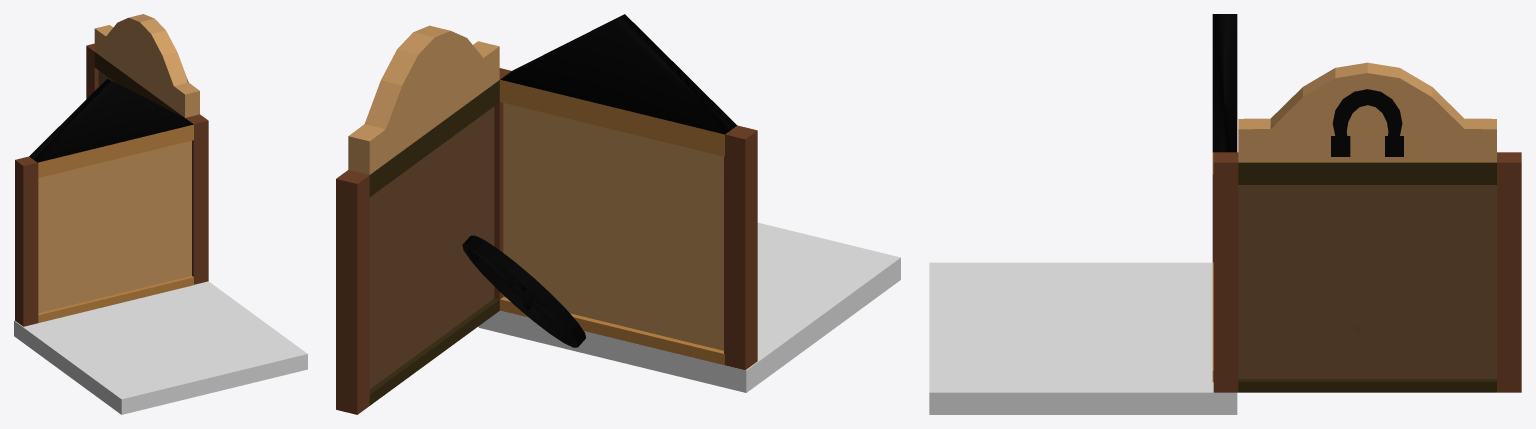
File: Corner_Wall.fbx
3 views of the same model, side by side, from view 1: azimuth 30°, elevation 25°; view 2: azimuth 150°, elevation 25°; view 3: azimuth 270°, elevation 25° (orthographic). The views are drawn at different scales.
Parts seen in each view (by area): view 1: Cube, Cube.006, Cube.012, Cube.015, Cube.001, Cube.008, Cube.002, Cube.004; view 2: Cube.006, Cube.005, Cube, Cube.012, Cube.015, Cube.002, Cube.008, Cube.001, Cube.004, Cube.024; view 3: Cube.005, Cube, Cube.015, Cube.002, Cube.004, Cube.012, Cube.016.
Part boxes in pixels (x1,y1,x2,y2): Cube: [14, 281, 307, 414]; Cube.006: [38, 140, 191, 312]; Cube.012: [29, 79, 193, 162]; Cube.015: [94, 14, 199, 117]; Cube.001: [38, 124, 193, 322]; Cube.008: [15, 156, 38, 326]; Cube.002: [86, 43, 208, 284]; Cube.004: [94, 52, 184, 117]; Cube.006: [503, 103, 723, 350]; Cube.005: [369, 106, 494, 388]; Cube: [478, 222, 900, 392]; Cube.012: [500, 14, 736, 134]; Cube.015: [348, 25, 499, 174]; Cube.002: [336, 68, 511, 414]; Cube.008: [724, 125, 757, 370]; Cube.001: [500, 79, 724, 365]; Cube.004: [369, 80, 499, 405]; Cube.024: [462, 235, 585, 347]; Cube.005: [1238, 185, 1496, 378]; Cube: [929, 262, 1237, 414]; Cube.015: [1238, 62, 1496, 162]; Cube.002: [1213, 152, 1521, 392]; Cube.004: [1238, 162, 1496, 392]; Cube.012: [1212, 14, 1237, 152]; Cube.016: [1331, 89, 1403, 156].
Bounding box in the file's own units: 502 × 613 × 961.
3 materials, 2 textured.
